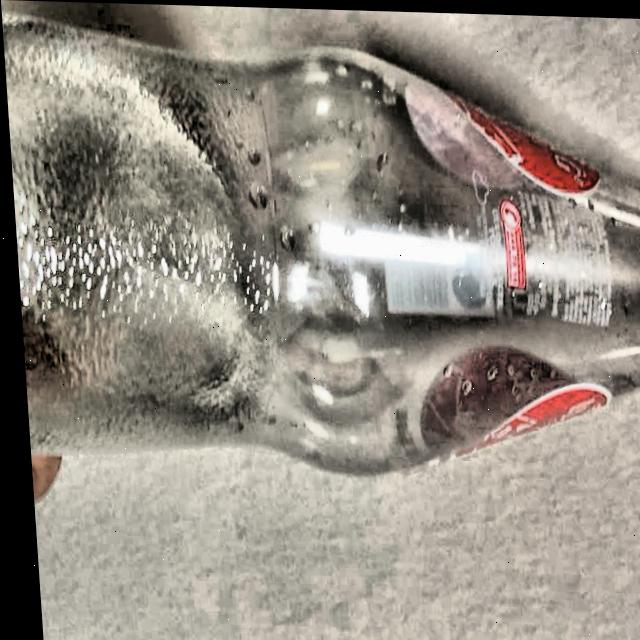plastic: (0, 9, 640, 477)
